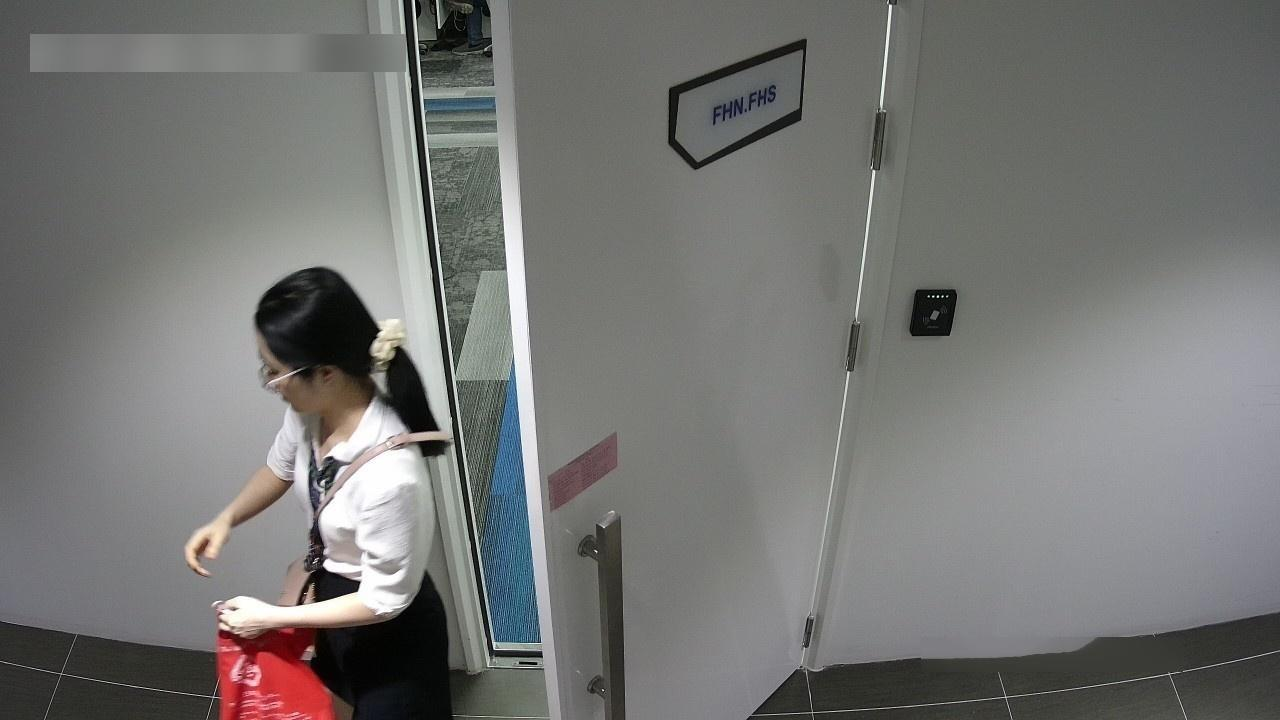no_apron: (210, 580, 308, 662), (176, 500, 242, 588)
no_gloves: (221, 256, 449, 474)
no_hairnet: (252, 326, 322, 421)
